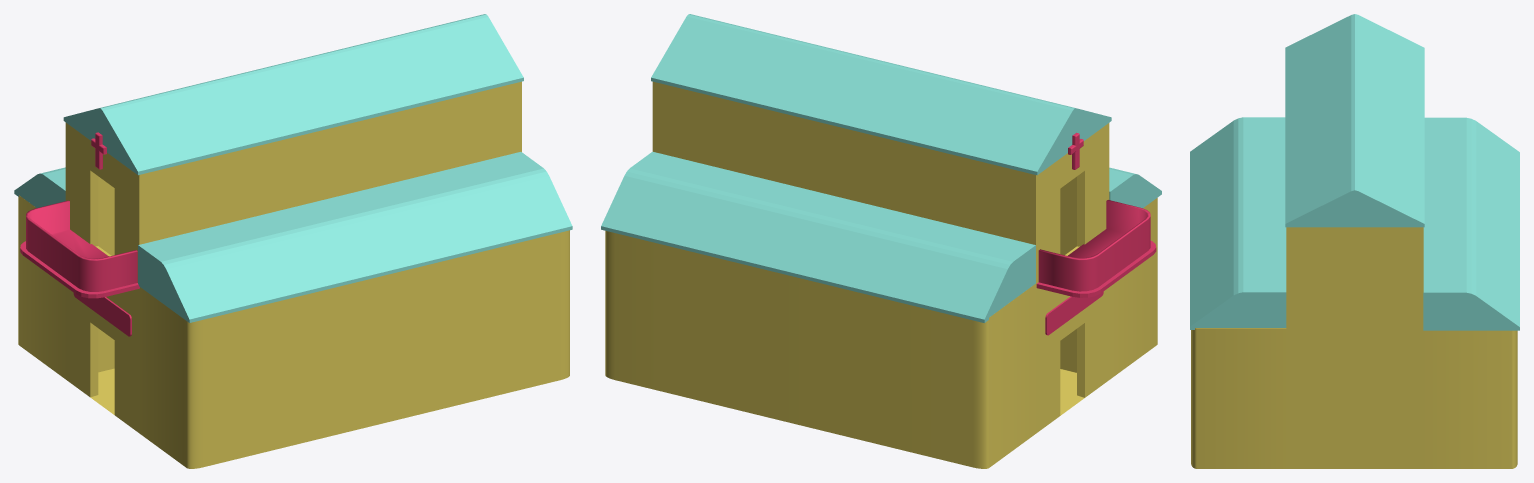
The model's file is colegio.fbx.
The picture shows the model from 3 angles, left to right: view 1: azimuth 30°, elevation 25°; view 2: azimuth 150°, elevation 25°; view 3: azimuth 270°, elevation 25°; orthographic projection. The views are drawn at different scales.
Parts seen in each view (by area): view 1: Cube.020, Cube.028, Cube.083, Cube.002, Cube.001, Cube.021, Cube.022; view 2: Cube.020, Cube.001, Cube.083, Cube.002, Cube.028, Cube.021, Cube.022; view 3: Cube.020, Cube.083, Cube.001, Cube.028.
Part boxes in pixels (box(x1,y1,x2,y2)): Cube.020: box(18, 81, 569, 468); Cube.028: box(138, 152, 572, 322); Cube.083: box(63, 14, 523, 175); Cube.002: box(26, 200, 137, 291); Cube.001: box(14, 167, 65, 207); Cube.021: box(73, 293, 131, 336); Cube.022: box(20, 241, 139, 298); Cube.020: box(605, 81, 1157, 468); Cube.001: box(601, 151, 1035, 322); Cube.083: box(651, 14, 1111, 175); Cube.002: box(1038, 200, 1150, 291); Cube.028: box(1109, 167, 1161, 208); Cube.021: box(1045, 291, 1103, 335); Cube.022: box(1036, 241, 1156, 297); Cube.020: box(1191, 227, 1517, 468); Cube.083: box(1285, 14, 1424, 227); Cube.001: box(1423, 117, 1519, 330); Cube.028: box(1190, 117, 1286, 329).
Size of the model in its own units: 182 by 118 by 126.
